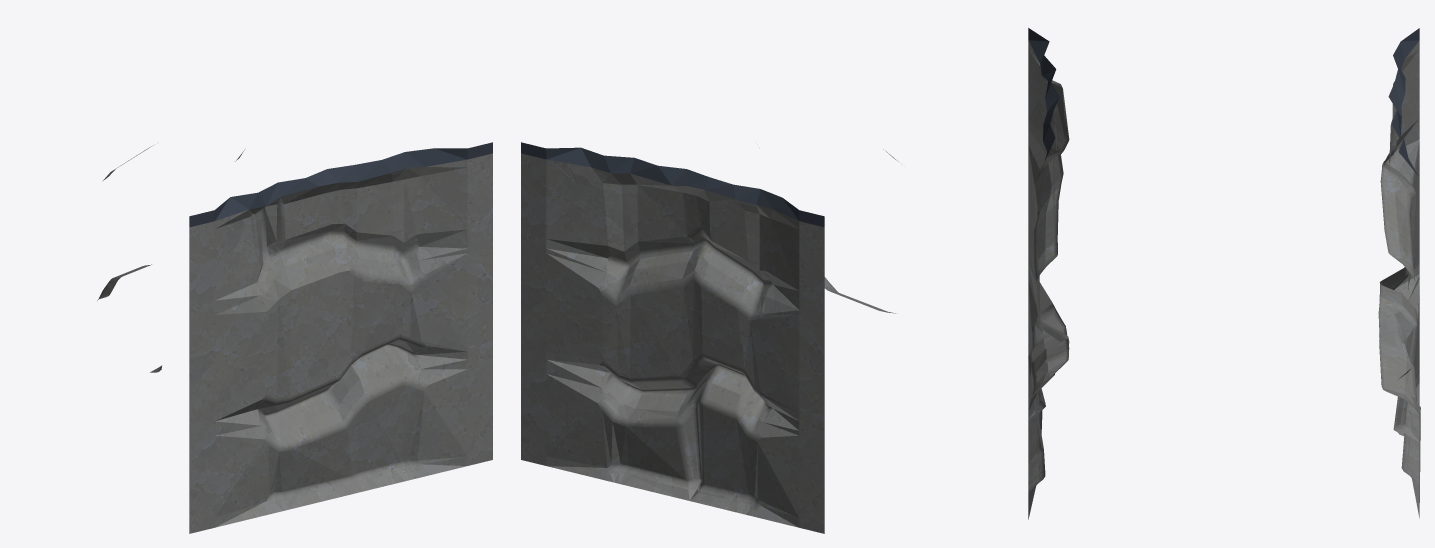
File: cliff_wall_strip_b.glb
3 renders of one model, left to right at view 1: azimuth 30°, elevation 25°; view 2: azimuth 150°, elevation 25°; view 3: azimuth 270°, elevation 25°, orthographic. The views are drawn at different scales.
Parts seen in each view (by area): view 1: CliffWall_strip_b_Body.001; view 2: CliffWall_strip_b_Body.001; view 3: CliffWall_strip_b_Body.001.
Boxes of the visible parts, x1,y1,x2,y2 form: CliffWall_strip_b_Body.001: (97, 142, 492, 533); CliffWall_strip_b_Body.001: (521, 142, 899, 533); CliffWall_strip_b_Body.001: (1028, 28, 1420, 519).
Size of the model in its own units: 1 by 1 by 1.
5 materials, 2 textured.
